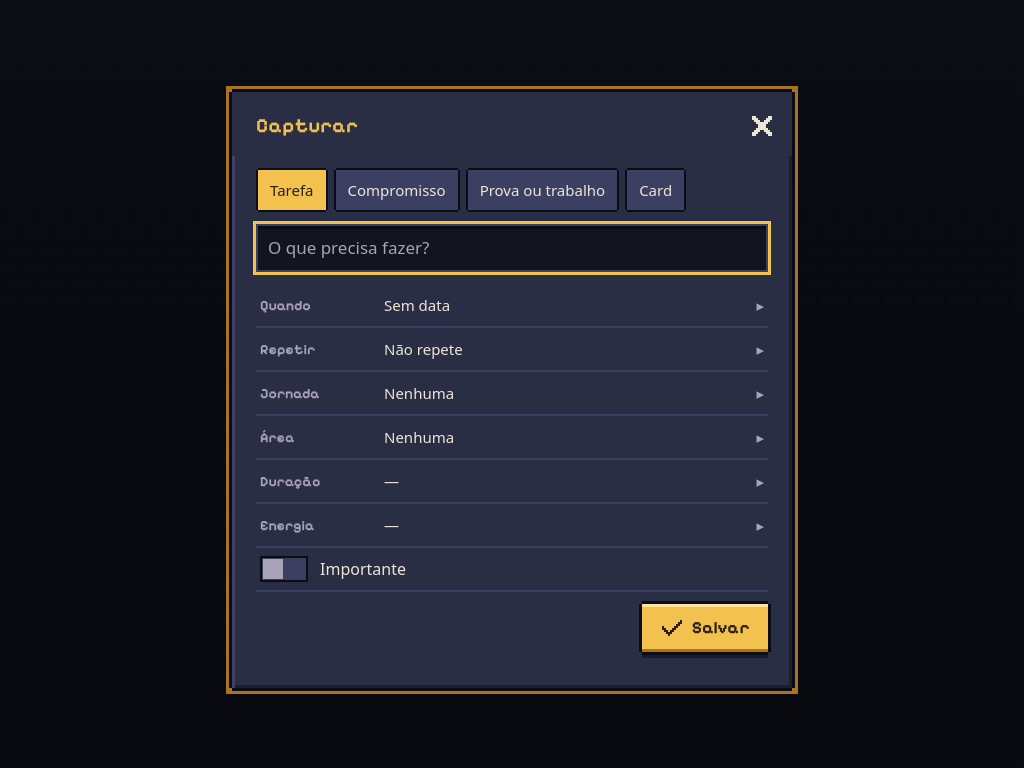
Capturar: Tarefa por toques › linhas com nome acessível = rótulo + valor, painel dentro da folha, um por vez
Click the button with aria-label "Quando: Sem data": (285, 305) [256,284,768,328]
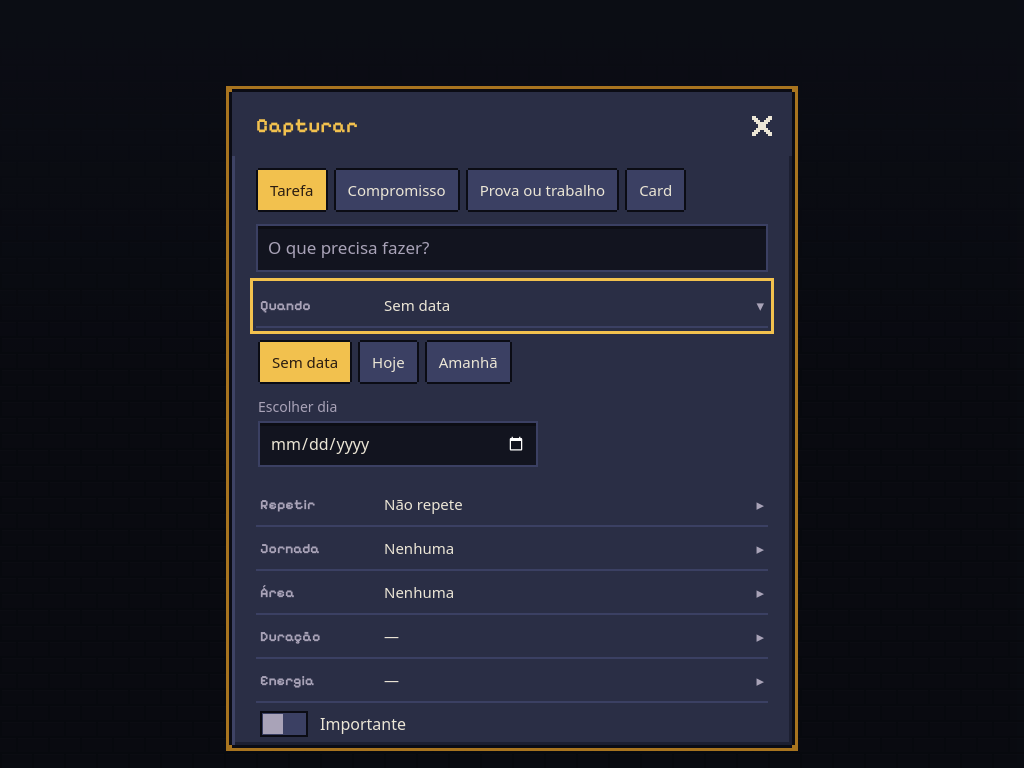
Now the button with aria-label "Quando: Sem data" is expanded, box [256,284,768,328]
Now the element named "Quando" is shown, box [258,342,538,467]
Click the button with aria-label "Duração: —": (290, 636) [256,615,768,659]
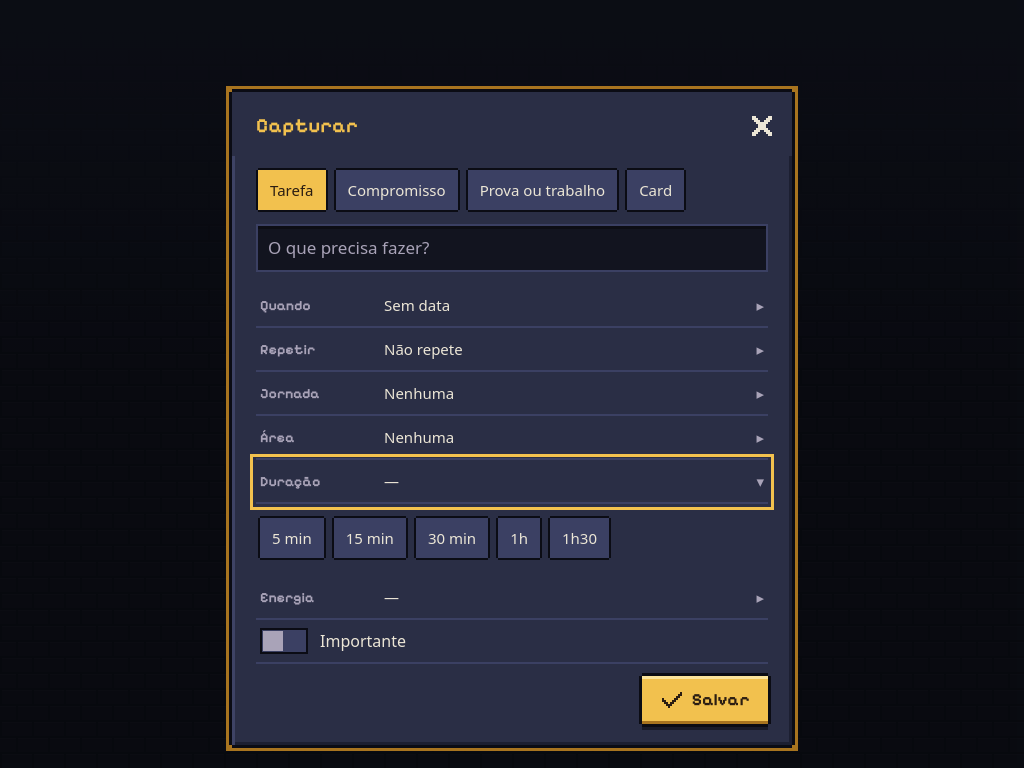
Expected: the number of dialogs is 1, [232,92,792,745]
Now the element named "Duração" is shown, box [260,518,609,558]
